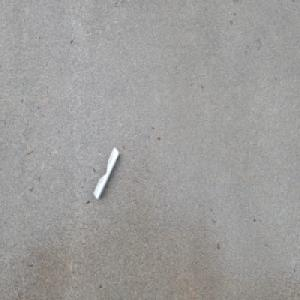ClampPart: (91, 145, 119, 202)
